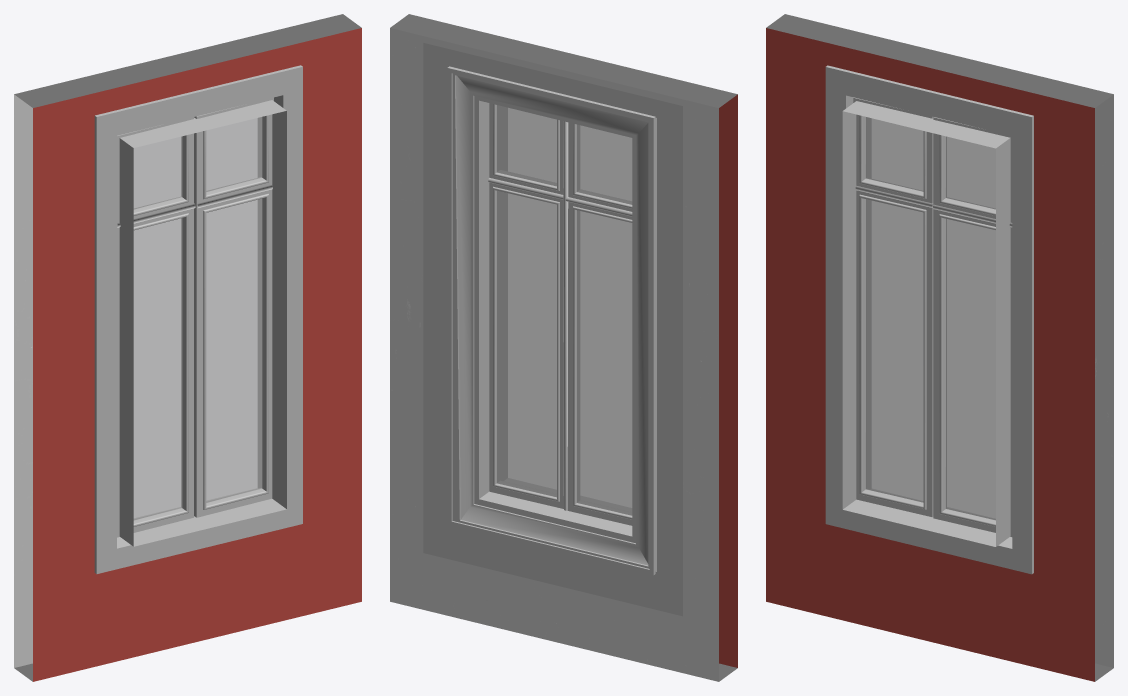
Rendered from SM_BuildingFacade_Window_400x250uu_Big_04.fbx.
3 renders of one model, left to right at view 1: azimuth 30°, elevation 25°; view 2: azimuth 150°, elevation 25°; view 3: azimuth 330°, elevation 25°, orthographic.
Parts seen in each view (by area): view 1: SM_BuildingFacade_Window_400x250uu_Big_04; view 2: SM_BuildingFacade_Window_400x250uu_Big_04; view 3: SM_BuildingFacade_Window_400x250uu_Big_04.
Part boxes in pixels (box(x1,y1,x2,y2)): SM_BuildingFacade_Window_400x250uu_Big_04: box(14, 14, 361, 681); SM_BuildingFacade_Window_400x250uu_Big_04: box(390, 14, 737, 681); SM_BuildingFacade_Window_400x250uu_Big_04: box(766, 14, 1113, 681).
Bounding box in the file's own units: 300 × 500 × 54.65.
